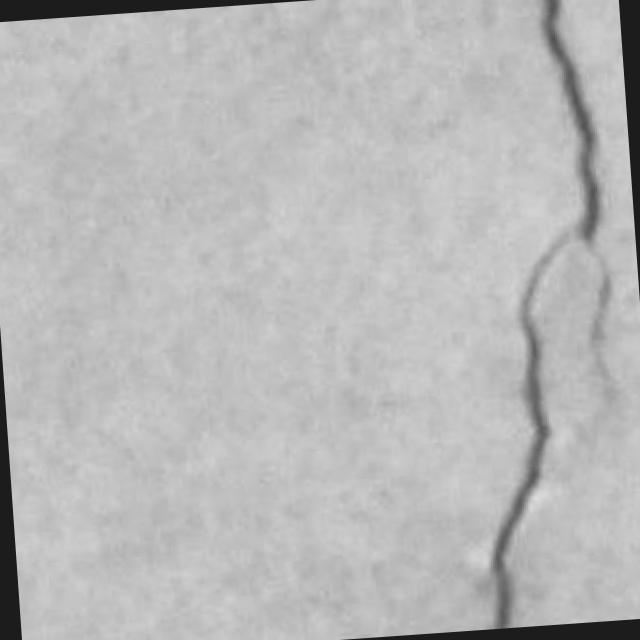crack: (491, 0, 611, 628)
